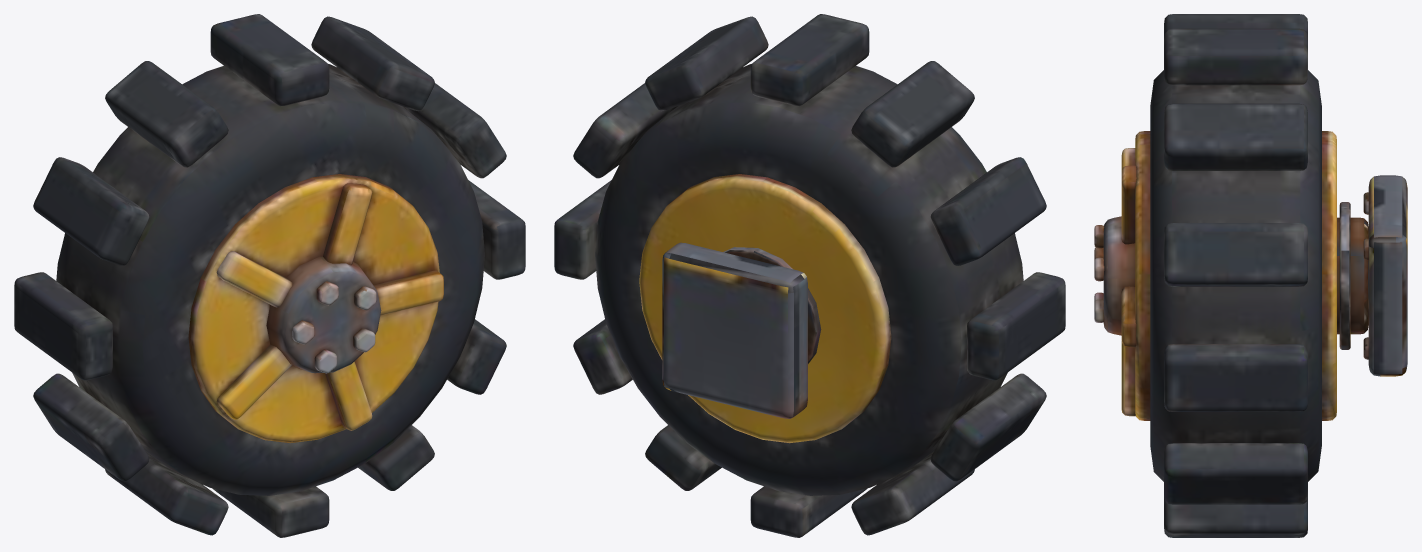
Rendered from wheel.glb.
The picture shows the model from 3 angles, left to right: view 1: azimuth 30°, elevation 25°; view 2: azimuth 150°, elevation 25°; view 3: azimuth 270°, elevation 25°; orthographic projection.
Visible parts, largest first — view 1: spin; view 2: spin, body; view 3: spin, body.
Boxes of the visible parts, x1,y1,x2,y2 form: spin: (14, 14, 525, 537); spin: (554, 14, 1065, 537); body: (662, 242, 821, 418); spin: (1094, 14, 1336, 537); body: (1337, 175, 1407, 376).
Bounding box in the file's own units: 0.67 × 0.67 × 0.4018.
1 material, 1 textured.
